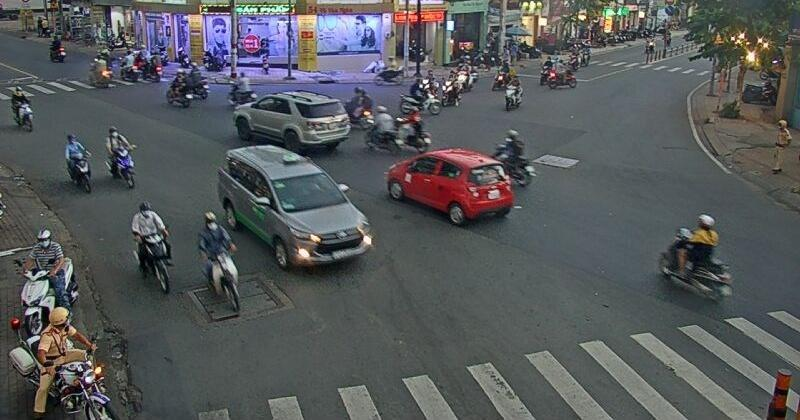xe hoi: (217, 144, 372, 270), (386, 148, 513, 226), (232, 90, 350, 149)
xe may: (658, 213, 732, 295), (198, 211, 240, 310), (131, 200, 171, 293), (105, 126, 135, 189), (64, 134, 92, 193), (400, 78, 441, 114), (11, 85, 33, 131), (505, 75, 523, 109)
